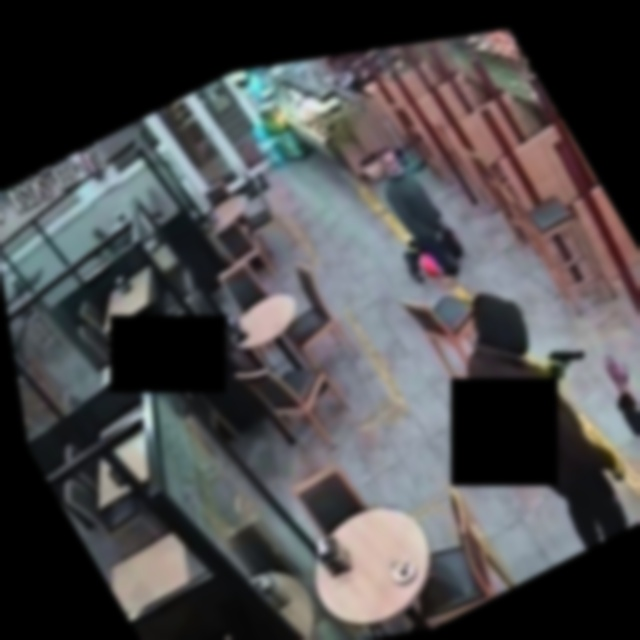gun: (536, 324, 605, 391)
